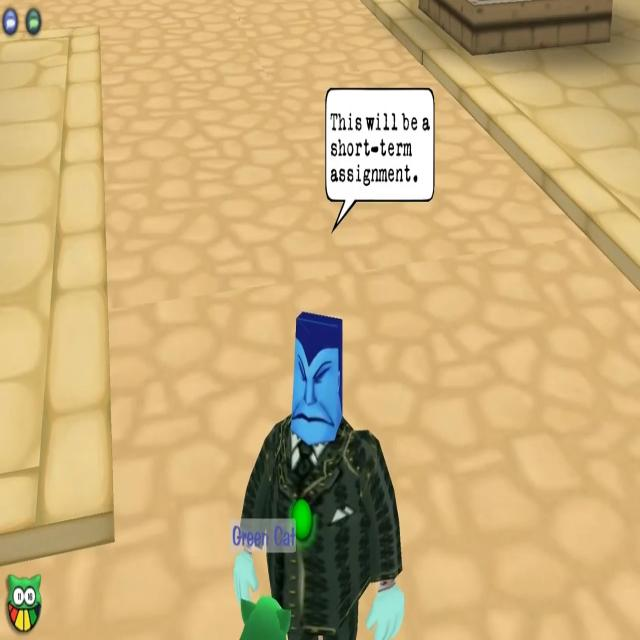shortchange: (236, 313, 404, 640), (284, 312, 346, 452)
